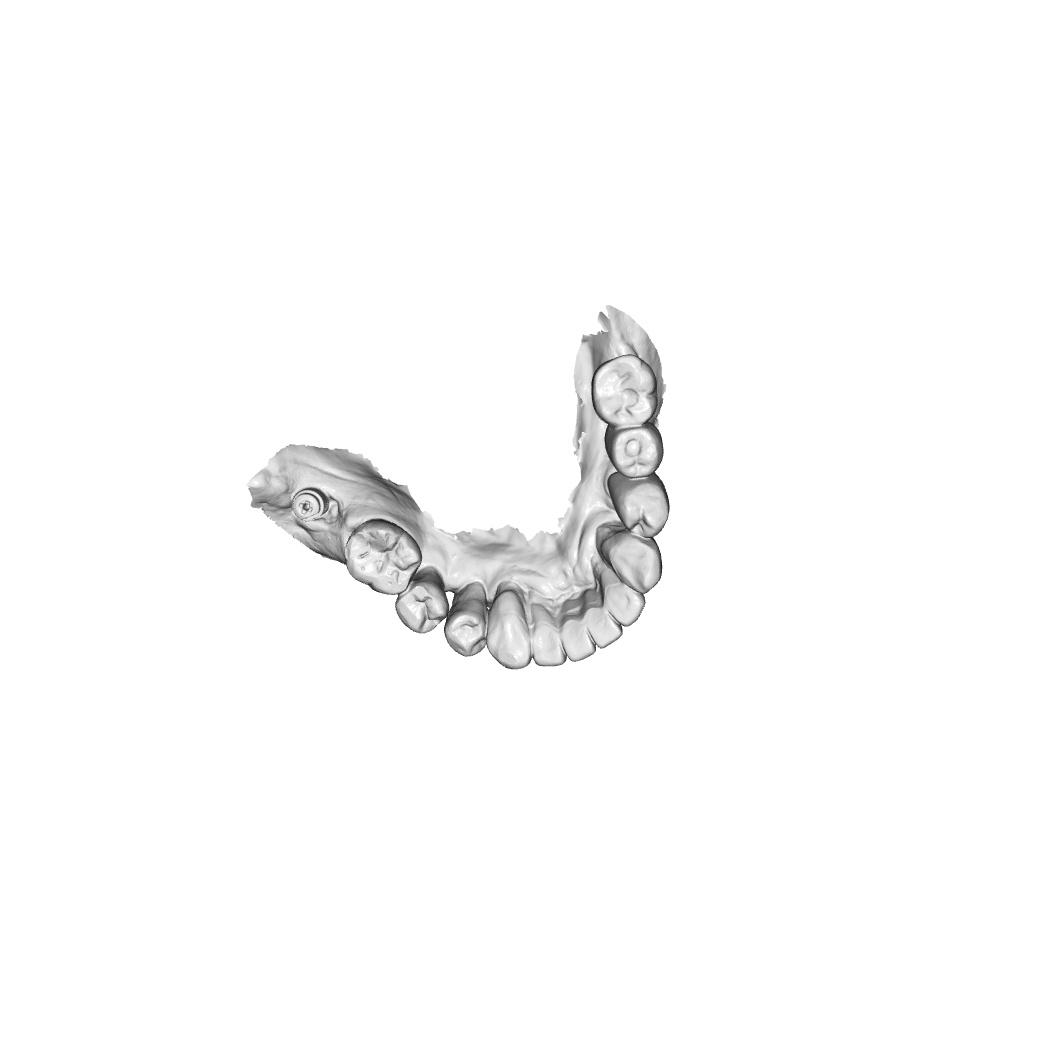canine: (598, 530, 664, 596), (486, 587, 532, 670)
implant_plus: (290, 486, 330, 521)
incisor: (599, 567, 647, 628), (582, 588, 623, 650), (531, 601, 567, 669), (558, 600, 596, 663)
molar: (343, 517, 423, 596), (590, 353, 659, 427)
premolar: (607, 469, 671, 540), (394, 569, 450, 635), (604, 424, 665, 478), (444, 594, 490, 658)
